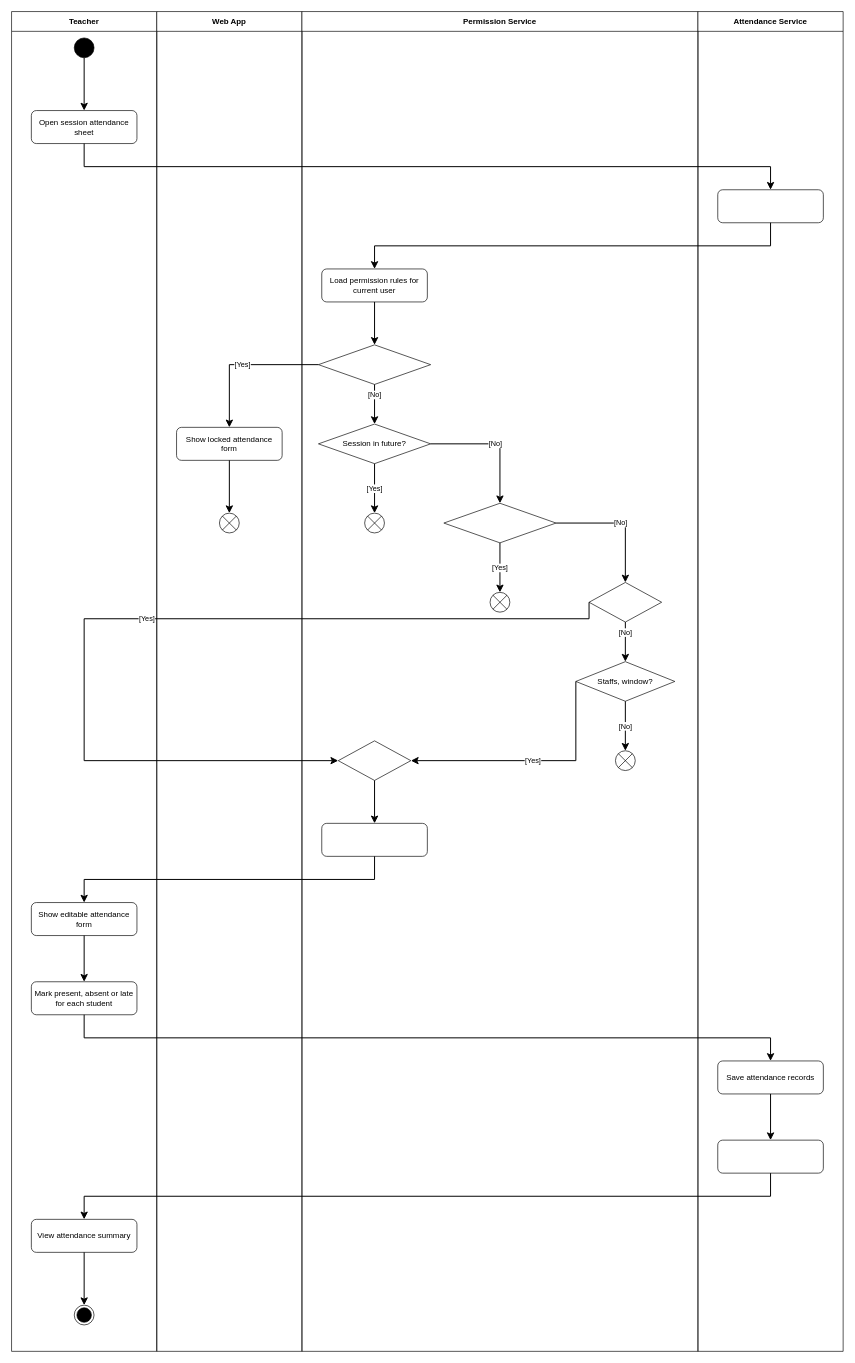
The diagram is 855 pixels wide and 1363 high, and some of its shapes have lost their labels. Each missing label, with the centre of its shape:
Admin?: point 625,602
Allow marking: point 374,839
List enrolled students: point 770,206
Refresh attendance summary: point 770,1156
Role is read-only?: point 499,523
Session cancelled?: point 374,364
